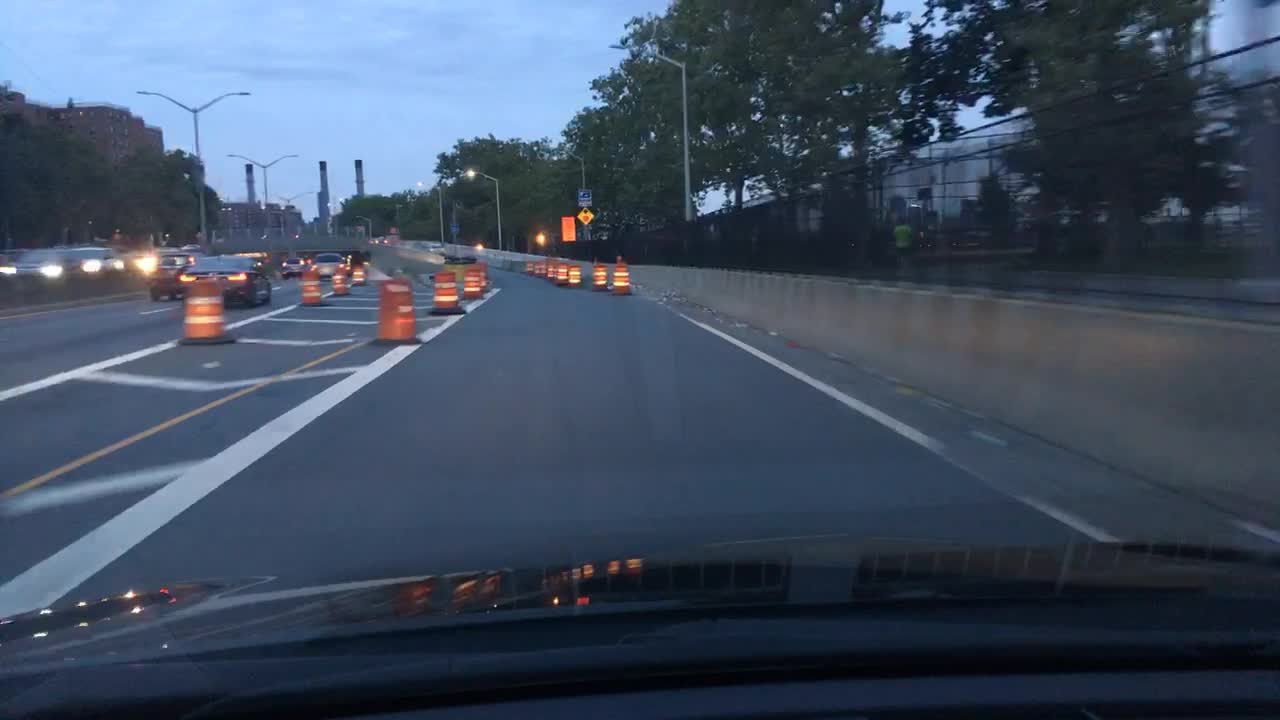car: (179, 257, 273, 303), (0, 247, 82, 278), (148, 255, 198, 301), (79, 247, 126, 274), (137, 247, 184, 273), (314, 253, 344, 277), (281, 258, 306, 275), (425, 242, 445, 255), (373, 237, 390, 247)
person: (890, 217, 915, 277)
traffic sign: (560, 217, 575, 242), (576, 188, 593, 207), (577, 208, 593, 227)
